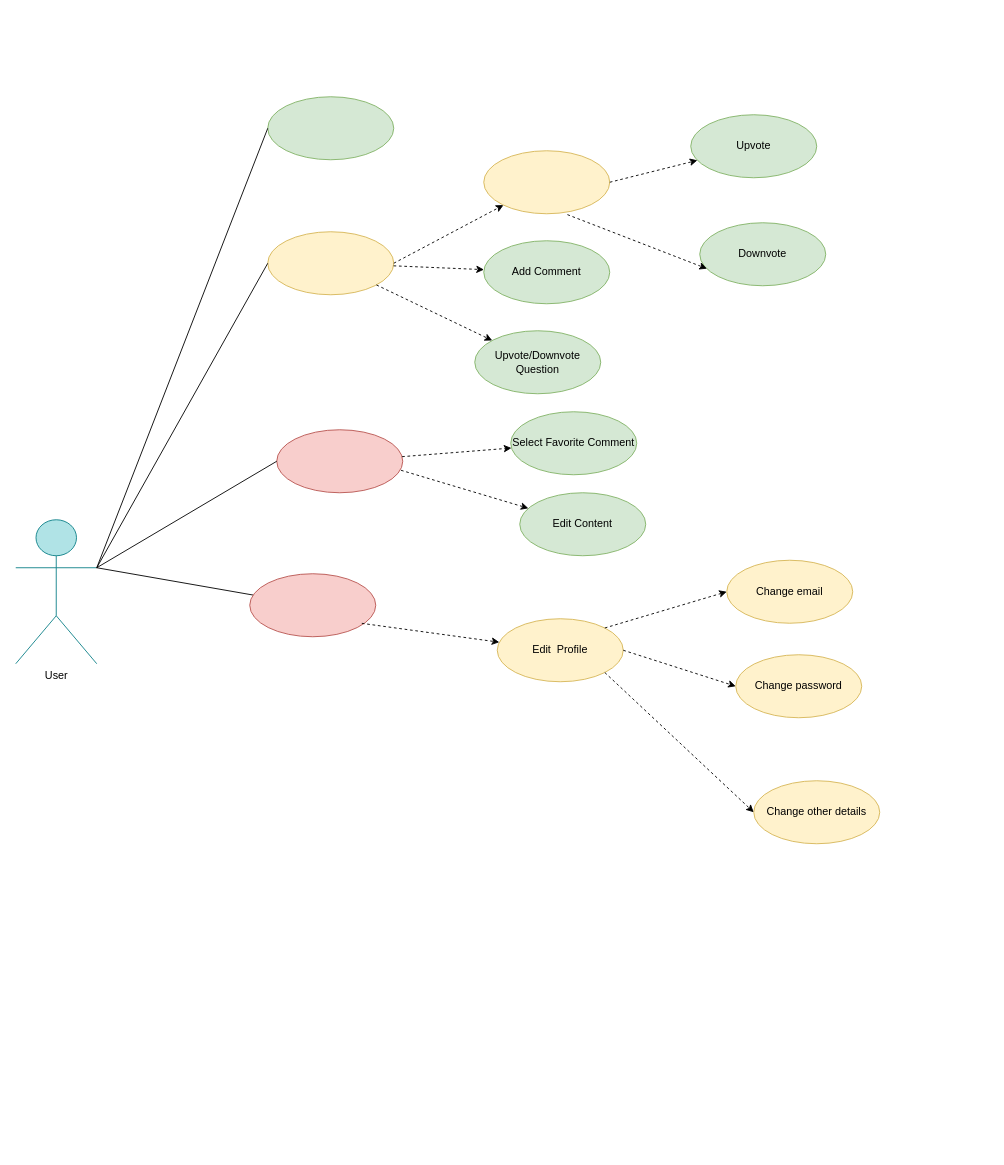
This 1004x1165 diagram has some shape labels left out. The shapes that lost their labels are listed below. From the top down, each one's centre as x and y in pixels, then its label:
At [330,128]: "Add Question".
At [546,182]: "View Comments".
At [330,263]: "View Question".
At [339,461]: "Edit Questions".
At [312,605]: "View Profile".
